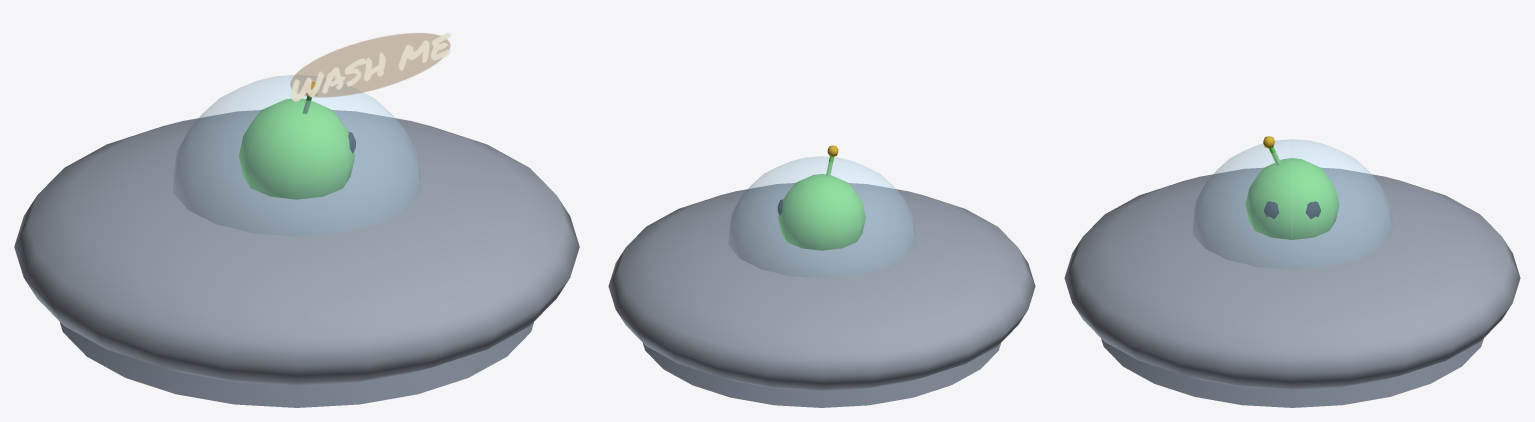
Rendered from car_ufo.glb.
3 renders of one model, left to right at view 1: azimuth 30°, elevation 25°; view 2: azimuth 150°, elevation 25°; view 3: azimuth 270°, elevation 25°, orthographic. The views are drawn at different scales.
Visible parts, largest first — view 1: Hover, WashMe; view 2: Hover; view 3: Hover.
Boxes of the visible parts, box(x1,y1,x2,y2) form: Hover: box(14, 75, 579, 407); WashMe: box(290, 33, 451, 101); Hover: box(608, 145, 1035, 407); Hover: box(1064, 136, 1520, 407).
Bounding box in the file's own units: 3.5 × 2.4 × 3.5.
Materials: 11 (1 with a texture image).
